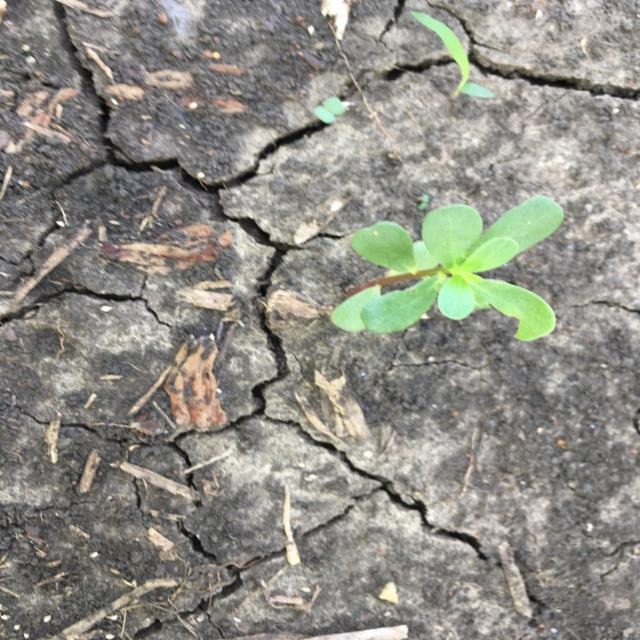Purslane: (329, 192, 568, 345)
